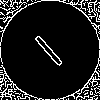I: (25, 25, 66, 69)
